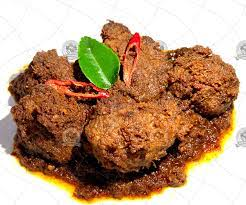rendang: (9, 11, 236, 191)
